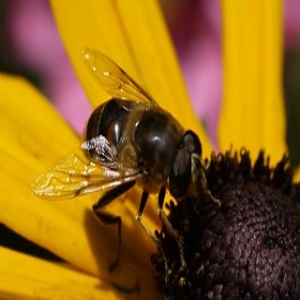bee: (31, 46, 214, 273)
